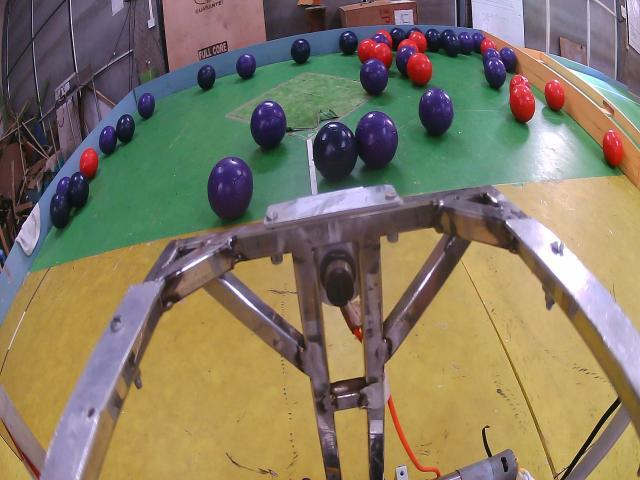jambhalya: (208, 157, 252, 220), (355, 112, 399, 168), (250, 100, 286, 148), (419, 88, 454, 135), (360, 58, 389, 95), (484, 58, 506, 88), (395, 45, 415, 77), (99, 125, 118, 155), (236, 53, 256, 78), (500, 47, 518, 71), (138, 93, 155, 118), (459, 32, 474, 55), (482, 48, 501, 66), (472, 32, 485, 53), (56, 177, 70, 194), (372, 33, 389, 44)
kaalyya: (312, 122, 358, 182), (50, 190, 70, 228), (69, 172, 89, 208), (116, 113, 135, 143), (291, 38, 310, 63), (198, 65, 216, 90), (339, 32, 358, 55), (442, 35, 460, 57), (425, 28, 441, 52), (390, 27, 406, 50), (440, 28, 455, 42), (406, 27, 419, 38)
